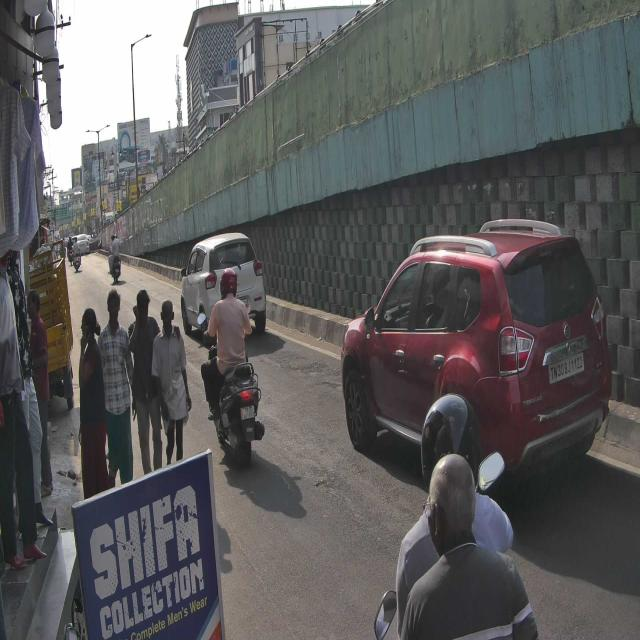single_rider: (196, 269, 268, 477)
